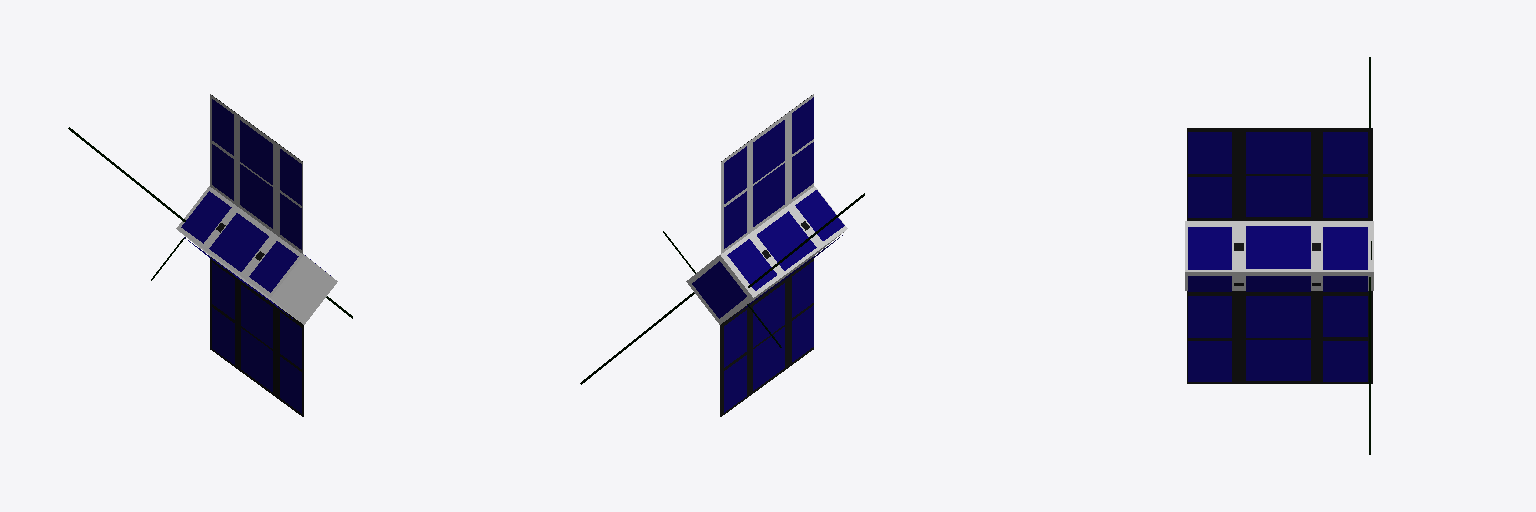
The model's file is lemur.obj.
The picture shows the model from 3 angles: view 1: azimuth 30°, elevation 25°; view 2: azimuth 150°, elevation 25°; view 3: azimuth 270°, elevation 25°; orthographic projection.
Parts seen in each view (by area): view 1: Cube, Plane.064, Plane.069, ReducedSolarCell.035, ReducedSolarCell.028, ReducedSolarCell.029, ReducedSolarCell.023, ReducedSolarCell.022, ReducedSolarCell.033, ReducedSolarCell.034, ReducedSolarCell.018, ReducedSolarCell.019 (+6 smaller); view 2: Cube, Plane.064, Plane.069, ReducedSolarCell.035, ReducedSolarCell.036, ReducedSolarCell.028, ReducedSolarCell.029, ReducedSolarCell.022, ReducedSolarCell.023, ReducedSolarCell.033, ReducedSolarCell.034, ReducedSolarCell.025 (+7 smaller); view 3: Plane.142, Plane.141, Cube, ReducedSolarCell.014, ReducedSolarCell.004, ReducedSolarCell.010, ReducedSolarCell.005, ReducedSolarCell.011, ReducedSolarCell.012, ReducedSolarCell.013, ReducedSolarCell, ReducedSolarCell.003 (+9 smaller).
Boxes of the visible parts, <box> form: Cube: <box>176,186,337,324</box>; Plane.064: <box>210,94,302,253</box>; Plane.069: <box>210,258,302,416</box>; ReducedSolarCell.035: <box>209,213,268,271</box>; ReducedSolarCell.028: <box>240,164,272,228</box>; ReducedSolarCell.029: <box>240,120,272,184</box>; ReducedSolarCell.023: <box>241,285,272,348</box>; ReducedSolarCell.022: <box>241,328,272,391</box>; ReducedSolarCell.033: <box>181,191,231,243</box>; ReducedSolarCell.034: <box>249,241,298,292</box>; ReducedSolarCell.018: <box>212,307,234,364</box>; ReducedSolarCell.019: <box>212,262,234,319</box>; Cube: <box>686,186,847,324</box>; Plane.064: <box>721,94,813,253</box>; Plane.069: <box>721,258,813,416</box>; ReducedSolarCell.035: <box>757,211,816,270</box>; ReducedSolarCell.036: <box>692,261,746,318</box>; ReducedSolarCell.028: <box>753,163,784,226</box>; ReducedSolarCell.029: <box>753,120,784,183</box>; ReducedSolarCell.022: <box>753,327,784,390</box>; ReducedSolarCell.023: <box>753,283,784,347</box>; ReducedSolarCell.033: <box>727,239,776,290</box>; ReducedSolarCell.034: <box>795,190,844,240</box>; ReducedSolarCell.025: <box>724,146,746,203</box>; Plane.142: <box>1187,128,1372,220</box>; Plane.141: <box>1187,291,1372,383</box>; Cube: <box>1185,221,1373,290</box>; ReducedSolarCell.014: <box>1246,226,1310,268</box>; ReducedSolarCell.004: <box>1246,132,1310,173</box>; ReducedSolarCell.010: <box>1246,296,1310,337</box>; ReducedSolarCell.005: <box>1246,176,1310,216</box>; ReducedSolarCell.011: <box>1246,340,1310,380</box>; ReducedSolarCell.012: <box>1323,227,1367,269</box>; ReducedSolarCell.013: <box>1188,227,1231,269</box>; ReducedSolarCell: <box>1323,132,1367,173</box>; ReducedSolarCell.003: <box>1188,132,1231,173</box>.
Bounding box in the file's own units: 1.19 × 1.04 × 0.6868.